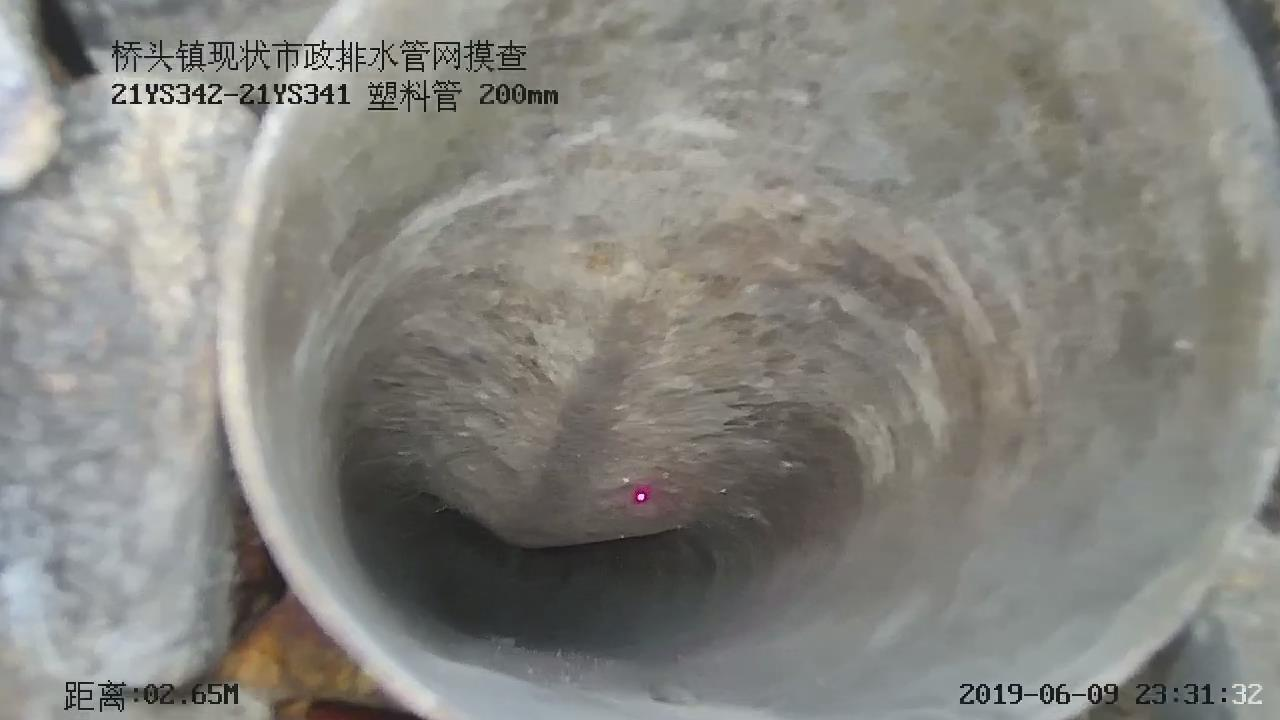BX: (347, 225, 772, 558)
